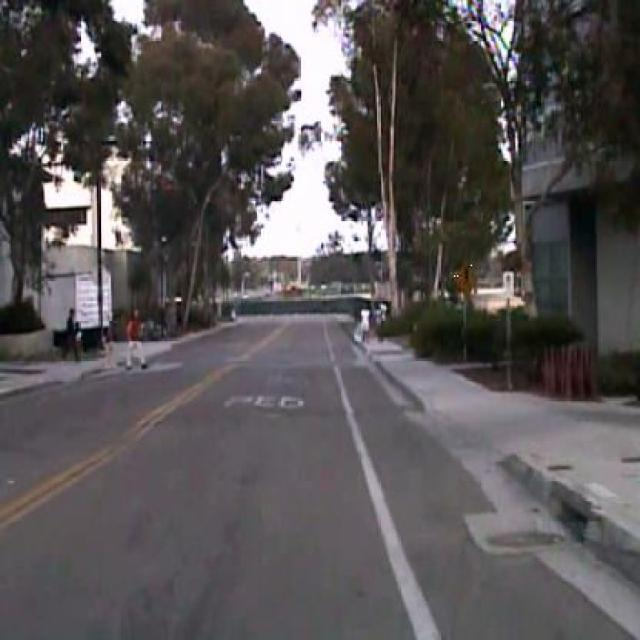pedestrianCrossing: (454, 255, 477, 298)
